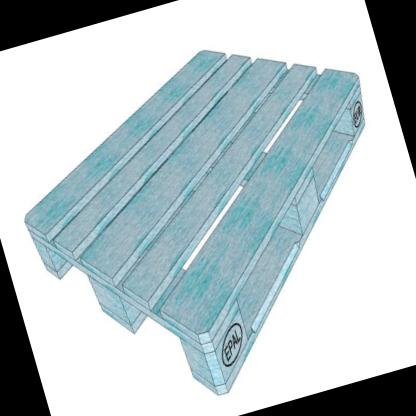BoxFace: (22, 42, 367, 401)
